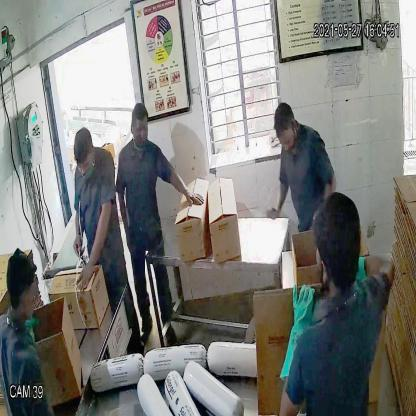no_goggles: (74, 152, 95, 176)
